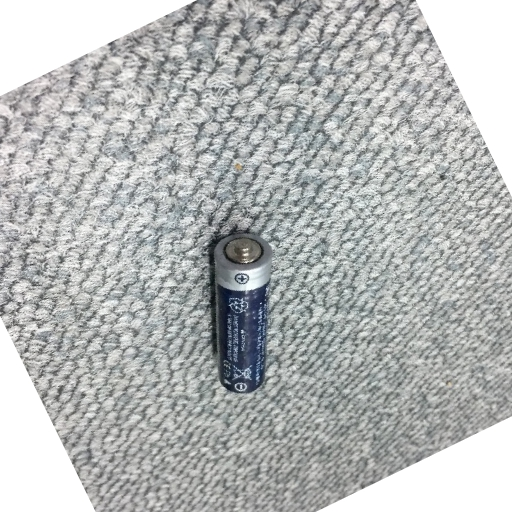Battery_0: (210, 226, 280, 402)
